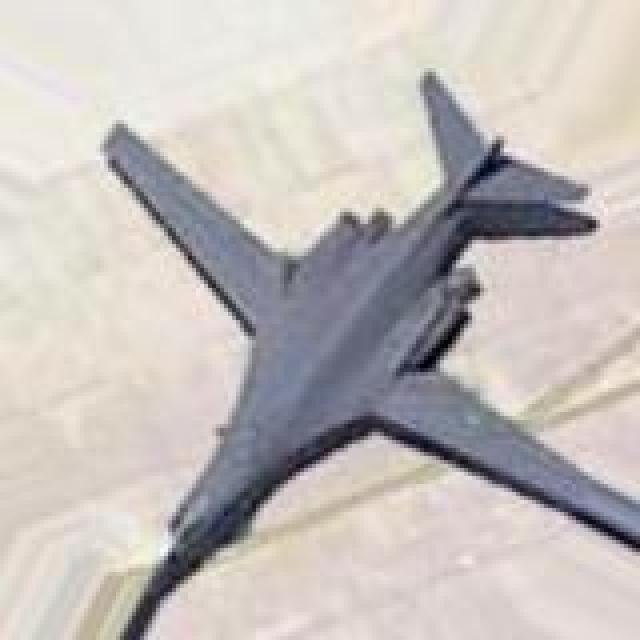B-1_TopDown: (88, 64, 636, 636)
